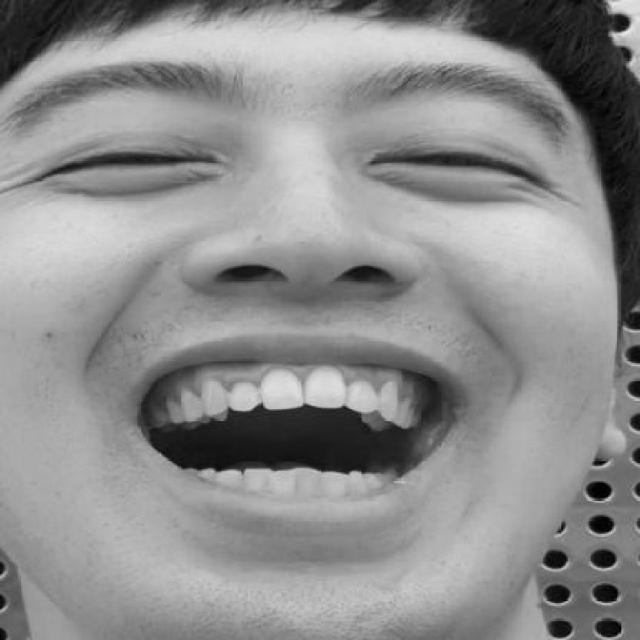happy: (0, 62, 589, 568)
